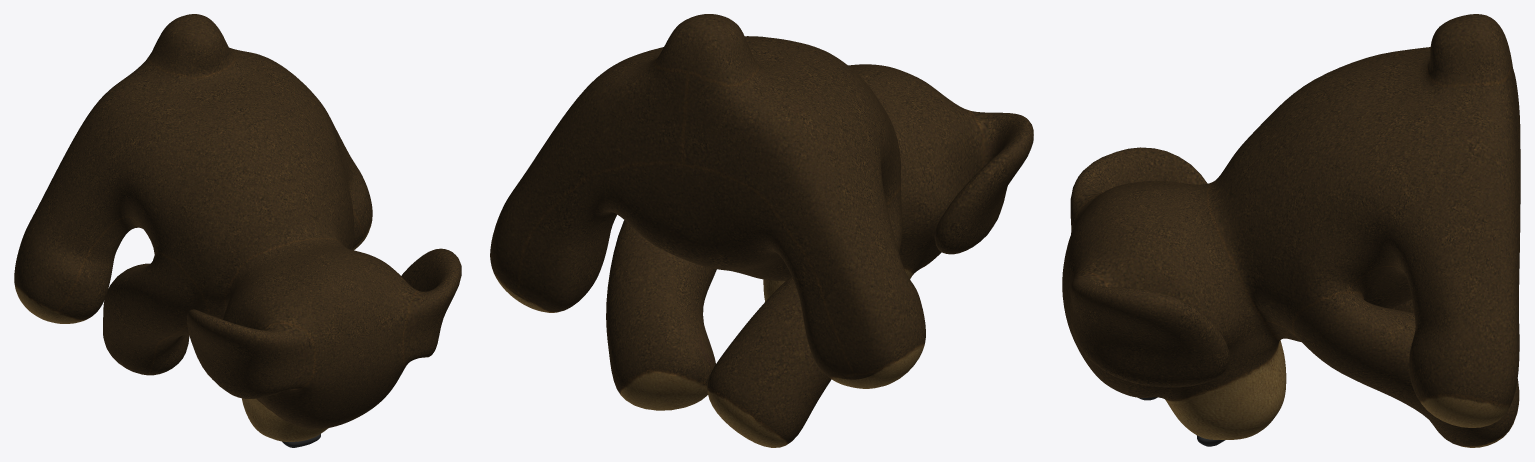
File: oso.gltf
The picture shows the model from 3 angles, left to right: view 1: azimuth 30°, elevation 25°; view 2: azimuth 150°, elevation 25°; view 3: azimuth 270°, elevation 25°; orthographic projection. The views are drawn at different scales.
Visible parts, largest first — view 1: 11706_stuffed_animal_L2; view 2: 11706_stuffed_animal_L2; view 3: 11706_stuffed_animal_L2.
Boxes of the visible parts, x1,y1,x2,y2 form: 11706_stuffed_animal_L2: [14, 14, 461, 447]; 11706_stuffed_animal_L2: [490, 14, 1033, 447]; 11706_stuffed_animal_L2: [1062, 14, 1520, 447].
Size of the model in its own units: 25.28 by 24.44 by 23.95.
Materials: 2 (1 with a texture image).
